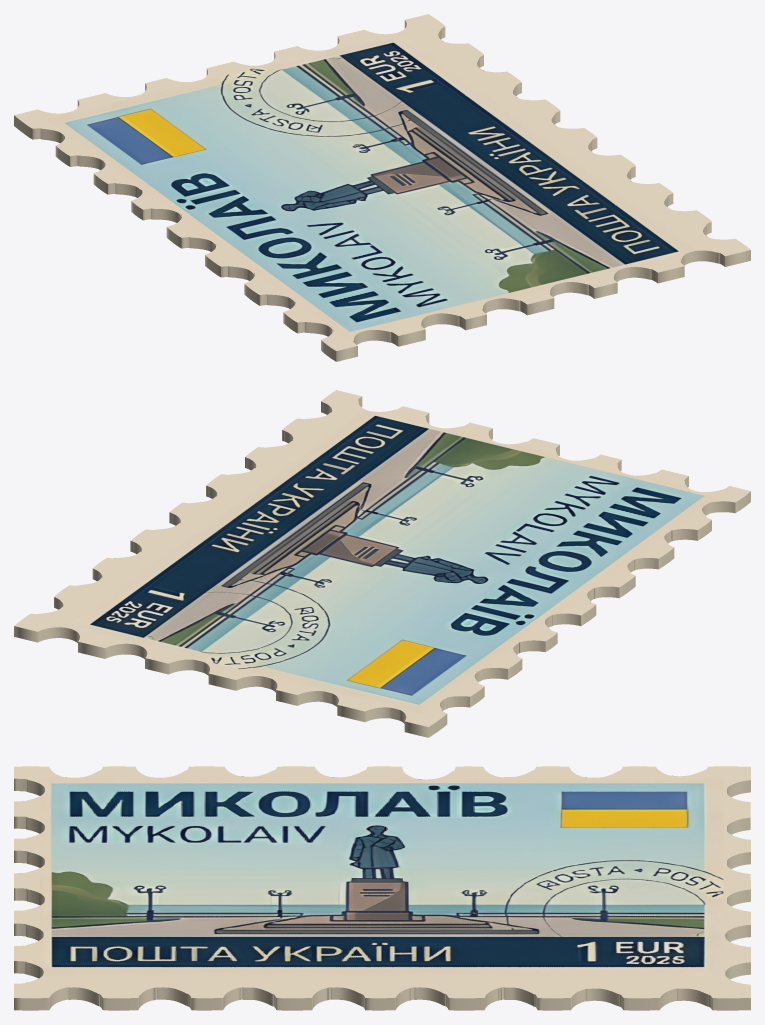
File: Card_Nikolaev.glb
3 views of the same model, one above another, from view 1: azimuth 30°, elevation 25°; view 2: azimuth 150°, elevation 25°; view 3: azimuth 270°, elevation 25° (orthographic). The views are drawn at different scales.
Visible parts, largest first — view 1: Curve; view 2: Curve; view 3: Curve.
Part boxes in pixels (left/top/right/bottom): Curve: left=14, top=14, right=750, bottom=361; Curve: left=14, top=390, right=750, bottom=737; Curve: left=14, top=766, right=750, bottom=1010.
Bounding box in the file's own units: 124 × 3.07 × 167.
1 material, 1 textured.
